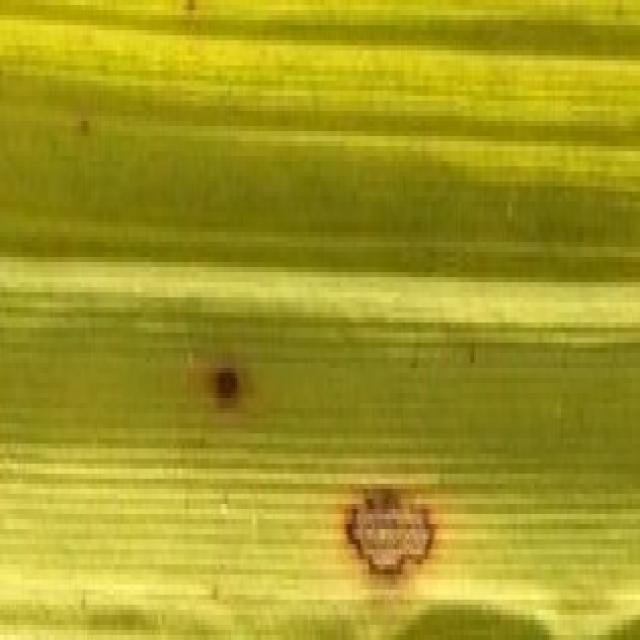Brownspot: (345, 487, 434, 577), (208, 365, 241, 408), (78, 118, 91, 136)
